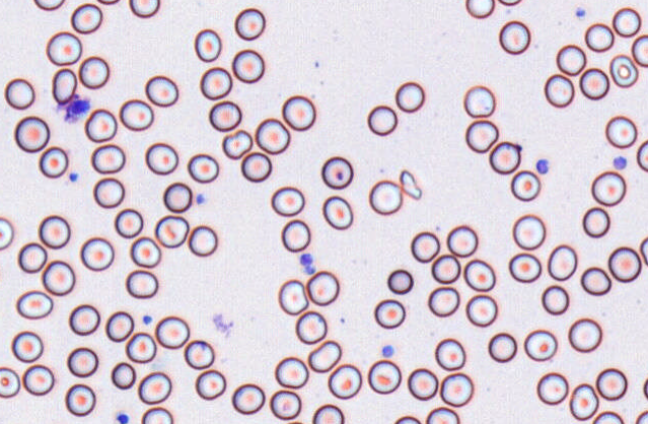PLT: (113, 411, 134, 424), (536, 158, 550, 173), (382, 344, 396, 358), (612, 157, 627, 170), (304, 265, 318, 278), (573, 6, 587, 19), (301, 252, 313, 265), (196, 193, 207, 206), (142, 314, 152, 325), (69, 170, 78, 182)
RBC: (14, 115, 50, 152), (254, 117, 290, 154), (590, 170, 626, 206), (281, 94, 316, 131), (327, 363, 362, 399), (607, 246, 642, 282), (45, 31, 82, 65), (567, 317, 602, 352), (368, 179, 402, 215), (41, 259, 75, 295), (512, 213, 545, 250), (154, 315, 189, 349), (439, 372, 473, 407), (154, 214, 189, 248), (367, 359, 401, 394), (80, 236, 114, 271), (306, 270, 339, 305), (118, 98, 153, 131), (231, 48, 264, 83), (15, 289, 53, 319), (488, 140, 521, 174), (307, 339, 341, 372), (465, 119, 498, 153), (137, 371, 171, 404), (320, 155, 353, 189), (199, 66, 232, 100), (84, 108, 117, 142), (144, 142, 178, 175), (144, 74, 178, 107), (38, 214, 70, 249), (569, 383, 599, 420), (547, 244, 577, 281), (295, 310, 327, 344), (498, 20, 530, 54), (274, 356, 308, 388), (536, 371, 568, 405), (523, 329, 557, 361), (543, 73, 574, 108), (90, 143, 125, 174), (278, 279, 308, 315), (446, 224, 478, 257), (64, 383, 96, 416), (463, 84, 495, 117), (463, 258, 495, 291), (595, 367, 627, 400), (465, 294, 497, 327), (605, 115, 637, 148), (322, 195, 353, 229), (231, 383, 265, 414), (78, 55, 109, 89), (129, 236, 161, 268), (11, 330, 43, 362), (68, 303, 100, 335), (427, 286, 460, 317), (208, 100, 241, 131), (4, 77, 35, 110), (407, 367, 438, 400), (508, 252, 541, 283), (434, 337, 465, 370), (234, 7, 265, 40), (270, 186, 304, 216), (555, 44, 586, 76), (125, 331, 156, 363), (394, 81, 425, 113), (240, 151, 272, 182), (366, 104, 397, 136), (66, 346, 98, 377), (22, 364, 54, 395), (70, 3, 102, 34), (269, 389, 301, 420), (92, 177, 124, 208), (579, 67, 609, 100), (38, 145, 68, 178), (280, 219, 310, 252), (609, 54, 638, 88), (51, 67, 77, 104), (195, 369, 226, 400), (510, 169, 540, 201), (410, 231, 440, 263), (17, 241, 47, 273), (162, 181, 192, 213), (187, 224, 217, 256), (373, 298, 405, 328), (187, 153, 219, 183), (125, 269, 158, 298), (183, 339, 214, 369), (487, 331, 517, 362), (105, 310, 134, 342), (194, 28, 221, 62), (584, 22, 614, 52), (431, 253, 460, 284), (580, 266, 611, 295), (582, 206, 610, 238), (114, 208, 143, 238), (612, 7, 641, 37), (541, 284, 569, 315), (110, 361, 136, 389), (386, 268, 413, 294), (311, 403, 344, 423), (0, 366, 20, 398), (425, 406, 459, 423), (128, 0, 160, 18), (141, 406, 173, 423), (631, 34, 647, 67), (465, 0, 494, 18), (0, 216, 13, 250), (592, 410, 624, 423), (636, 139, 647, 171), (33, 0, 65, 10), (639, 235, 648, 265), (393, 415, 421, 423), (635, 409, 647, 423), (497, 0, 522, 6), (96, 0, 120, 5), (643, 376, 648, 399), (0, 258, 3, 286), (284, 420, 304, 424)
Schistocyte: (221, 131, 251, 159), (400, 169, 422, 200)
